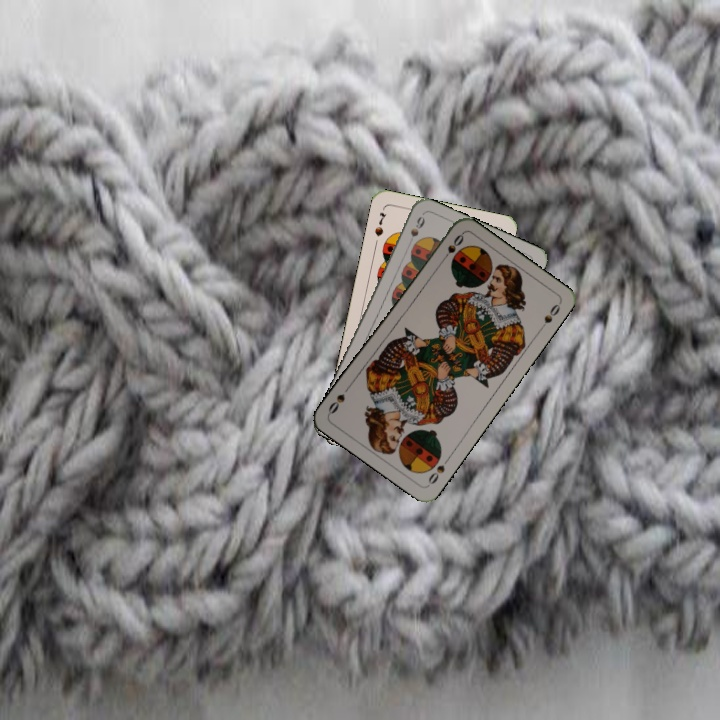S7: (370, 208, 389, 239)
S9: (403, 212, 427, 250)
SO: (438, 230, 467, 265), (424, 453, 453, 487)
